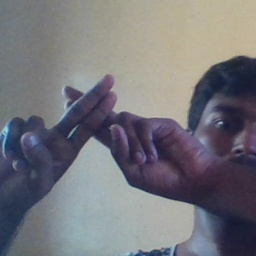F: (36, 65, 149, 189)
